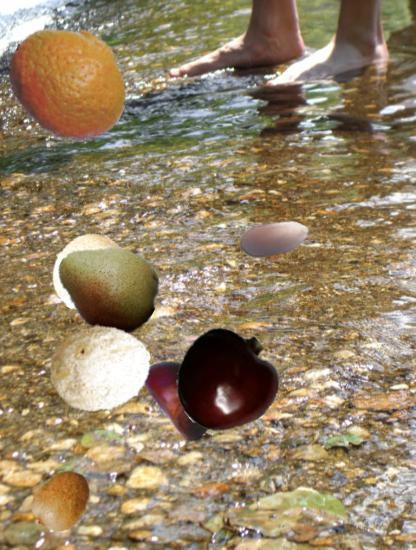Cantaloupe: (50, 318, 152, 420), (47, 231, 129, 313)
Cherry: (174, 330, 277, 433)
Chestnut: (139, 354, 226, 441)
Hazelnut: (239, 203, 312, 276)
Kiwi: (29, 468, 95, 534)
Mandarine: (8, 20, 131, 143)
Pear: (55, 234, 160, 339)
